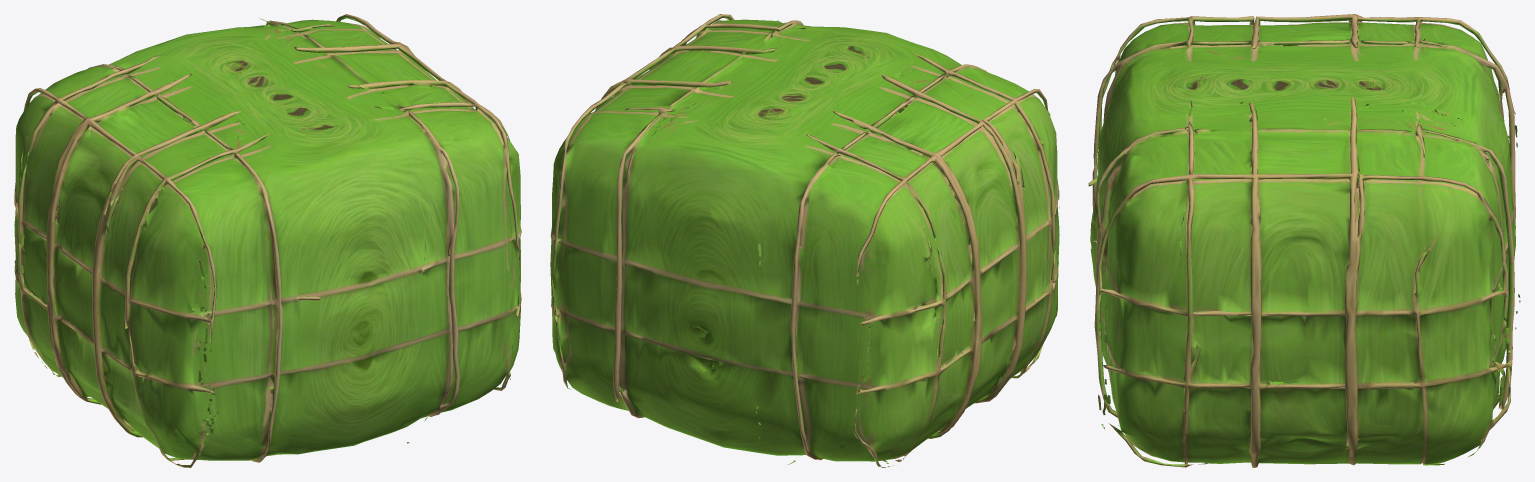
The model's file is hay-bale.glb.
3 renders of one model, left to right at view 1: azimuth 30°, elevation 25°; view 2: azimuth 150°, elevation 25°; view 3: azimuth 270°, elevation 25°, orthographic. The views are drawn at different scales.
Visible parts, largest first — view 1: Mesh1.0; view 2: Mesh1.0; view 3: Mesh1.0.
Part boxes in pixels (x1,y1,x2,y2): Mesh1.0: (14,14,521,467); Mesh1.0: (550,14,1059,467); Mesh1.0: (1088,14,1520,467).
Bounding box in the file's own units: 2 × 1.57 × 1.81.
Materials: 1 (1 with a texture image).
